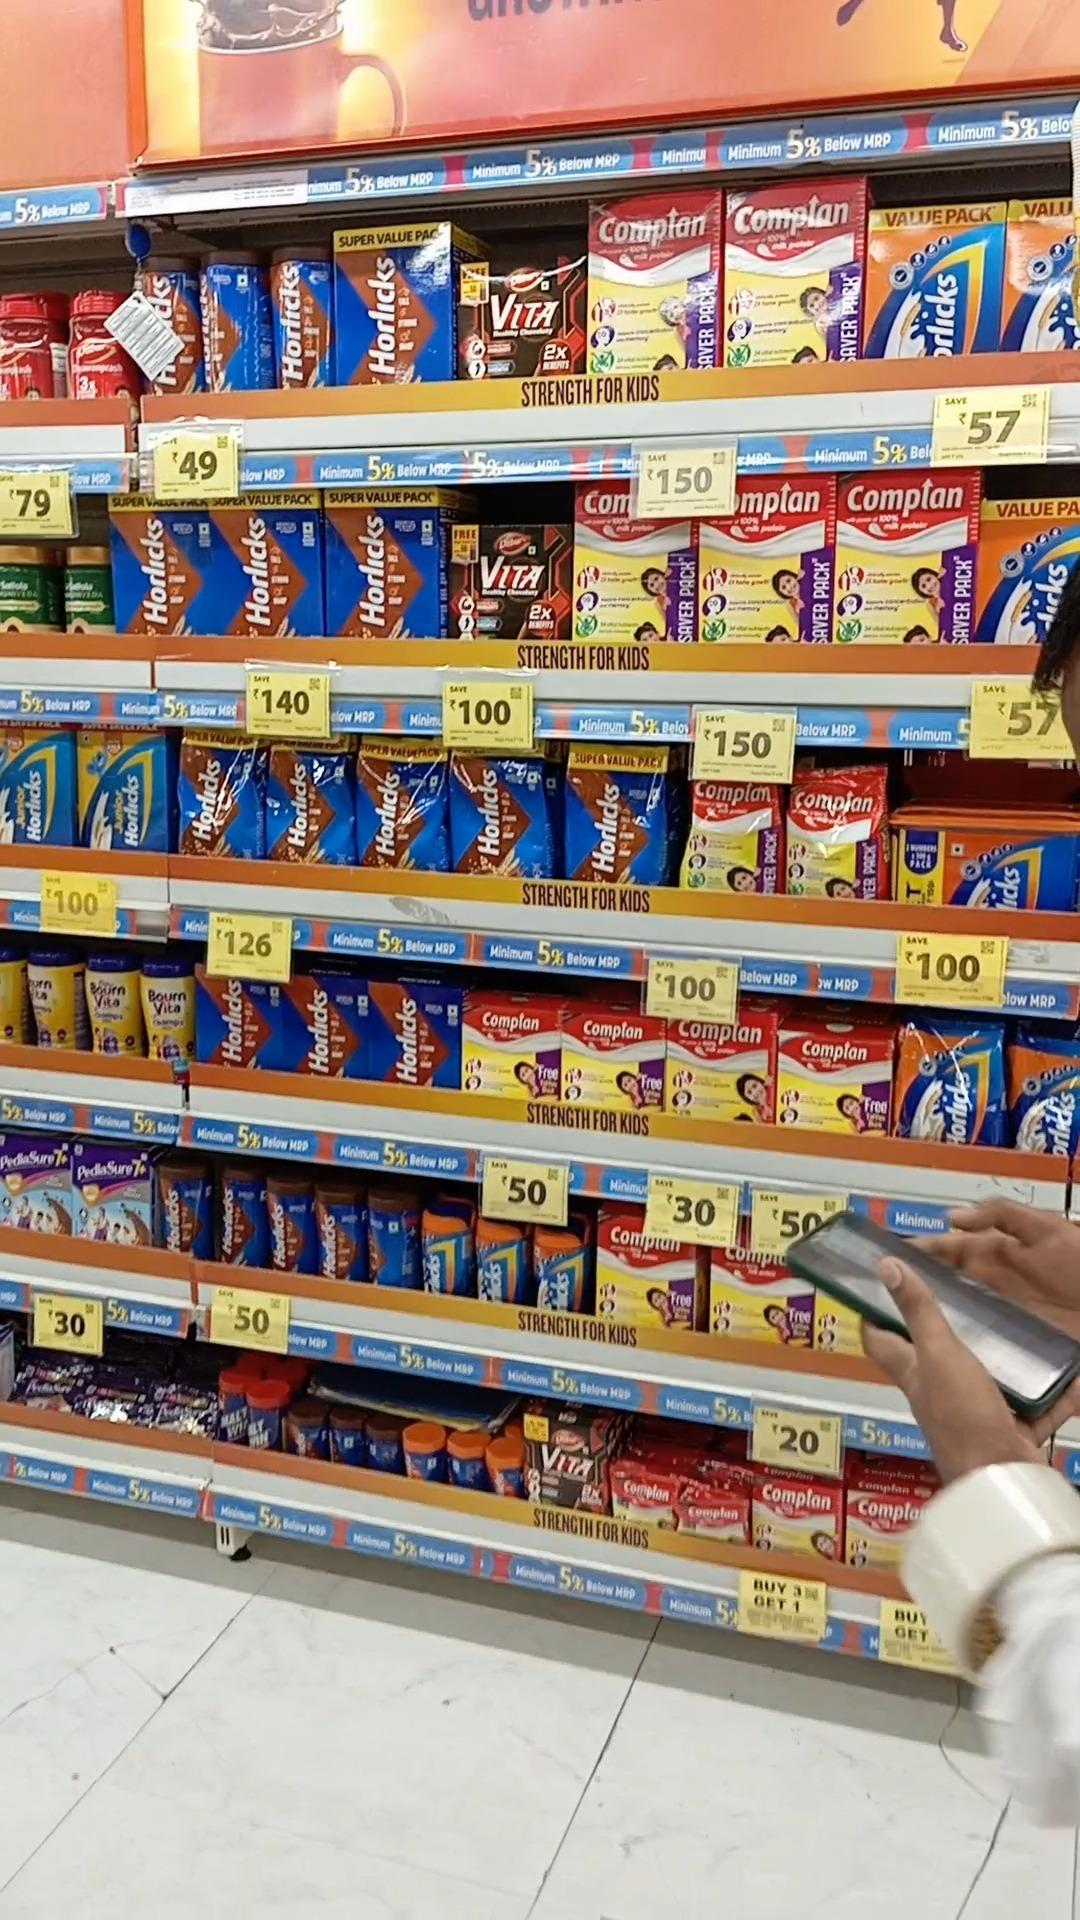BOURN_VITA_CHAMPS_500_G_JAR: (140, 952, 194, 1071), (84, 959, 136, 1059), (24, 951, 73, 1055)
COMPLAN_CHOCOLATE_1_KG_PACK: (725, 183, 857, 363), (837, 479, 972, 649), (596, 190, 719, 373), (699, 479, 832, 642), (575, 481, 690, 642)
COMPLAN_CHOCOLATE_200_GMS_PACK: (750, 1480, 843, 1559)
COMPLAN_CHOCOLATE_500_GMS_PACK: (597, 1216, 695, 1329), (563, 1010, 662, 1113), (468, 1000, 555, 1098)
COMPLAN_CREAMY_CLASSIC_500_G_PACK: (779, 1033, 891, 1137)
COMPLAN_RC_POUCH_700_GMS_12: (791, 765, 895, 905), (690, 779, 782, 894)
HORLICK_CHOCOLATE_1_KG_JAR: (138, 257, 199, 398), (272, 248, 328, 393), (196, 249, 247, 396)
HORLICK_CHOCOLATE_1_KG_PACK: (338, 227, 452, 386), (327, 487, 438, 634), (208, 495, 315, 638), (108, 489, 203, 634)
HORLICK_CHOCOLATE_500_G_JAR: (162, 1154, 206, 1270), (314, 1188, 365, 1284), (264, 1174, 310, 1279), (212, 1168, 258, 1266)
HORLICK_CHOCOLATE_500_G_PACK: (371, 993, 460, 1087), (287, 980, 367, 1081), (199, 980, 284, 1069)
HORLICK_CHOCOLATE_750_G_POUCH: (563, 746, 673, 890), (452, 741, 543, 884), (364, 740, 447, 878), (178, 738, 262, 858), (273, 737, 349, 866)
HORLICK_CLASSIC_MALT_500_G_JAR: (529, 1220, 588, 1317), (476, 1213, 531, 1308), (421, 1200, 472, 1294)
HORLICK_CLASSIC_MALT_500_G_PACK: (870, 198, 996, 363), (980, 495, 1080, 646), (1001, 193, 1080, 355)
HORLICK_CLASSIC_MALT_750_G_POUCH: (903, 1023, 1004, 1147), (1011, 1025, 1080, 1150)
HORLICK_MALT_1_KG_CONTAINER: (893, 825, 1080, 914)
PEDIASURE_7_PLUS_CHOCOLATE_400_G_PACK: (71, 1146, 152, 1244), (0, 1130, 63, 1236)
